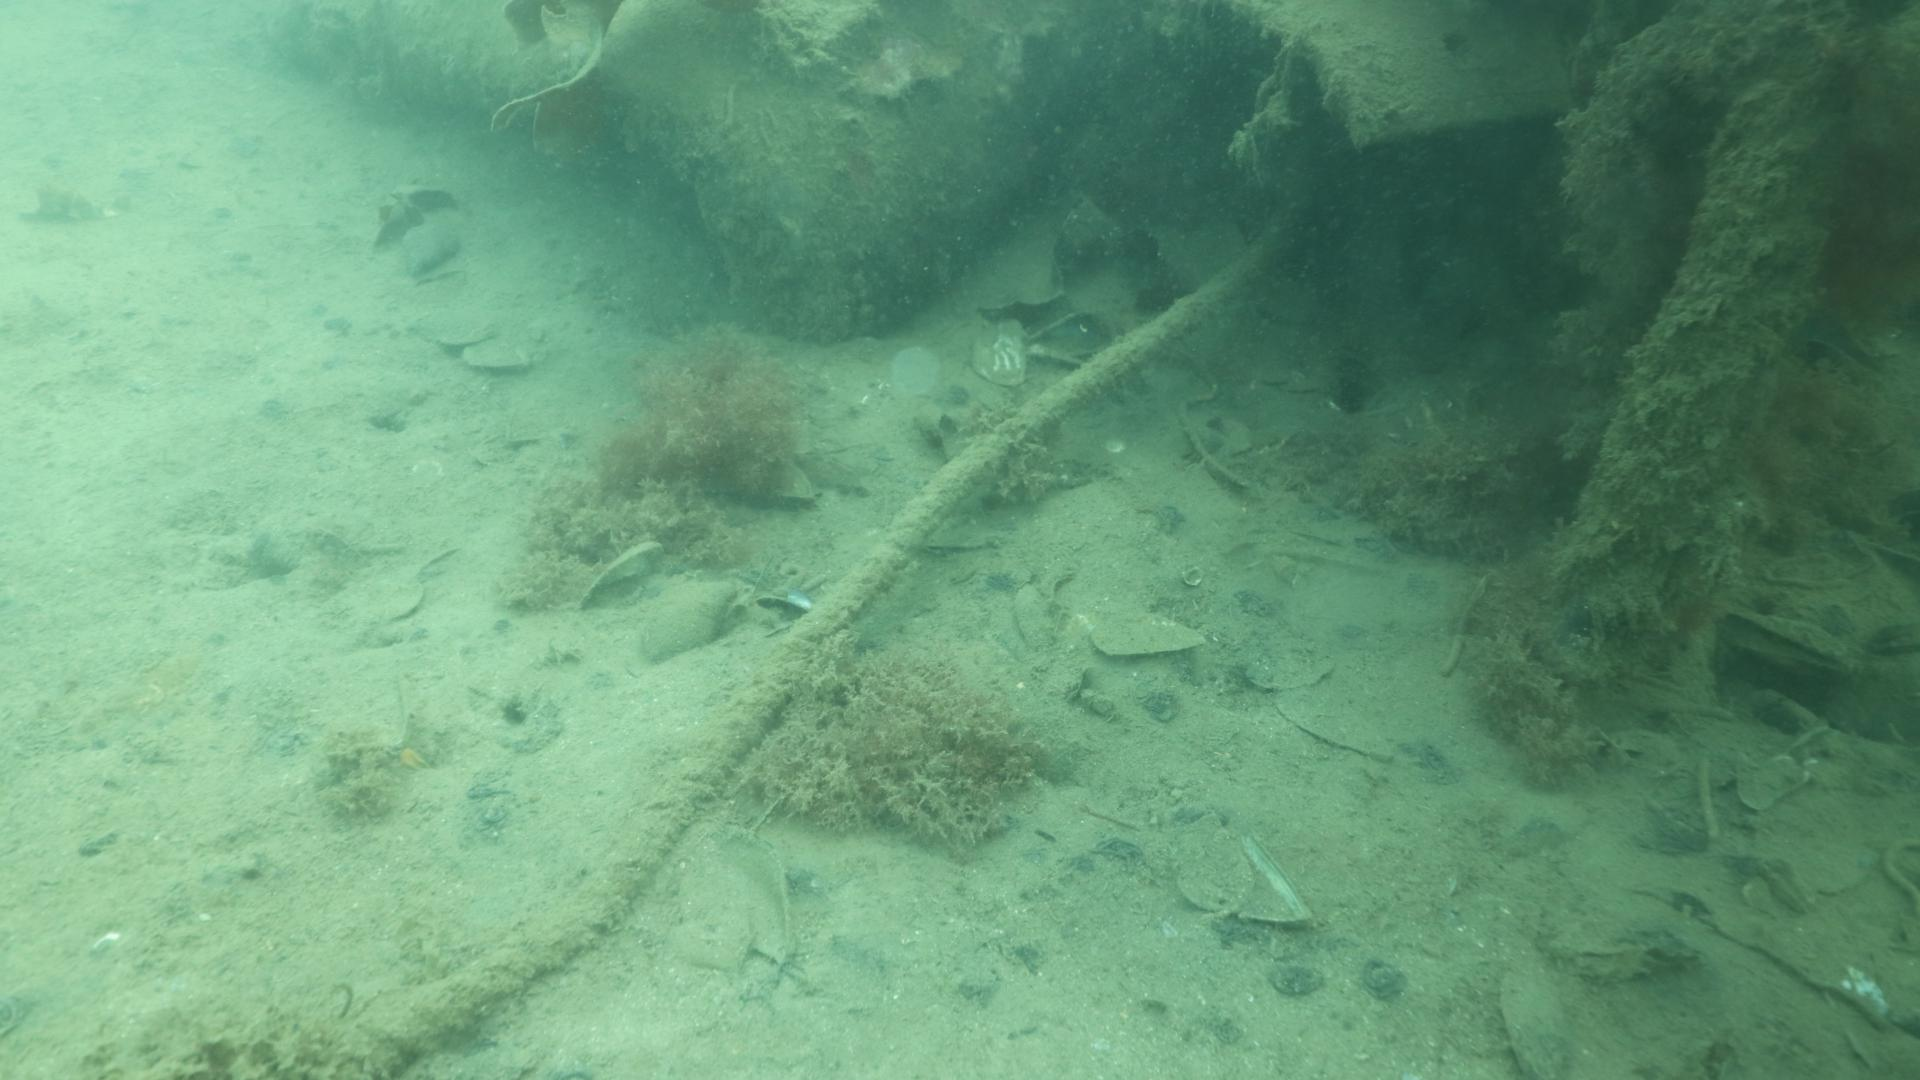rope: (367, 210, 1290, 1043)
